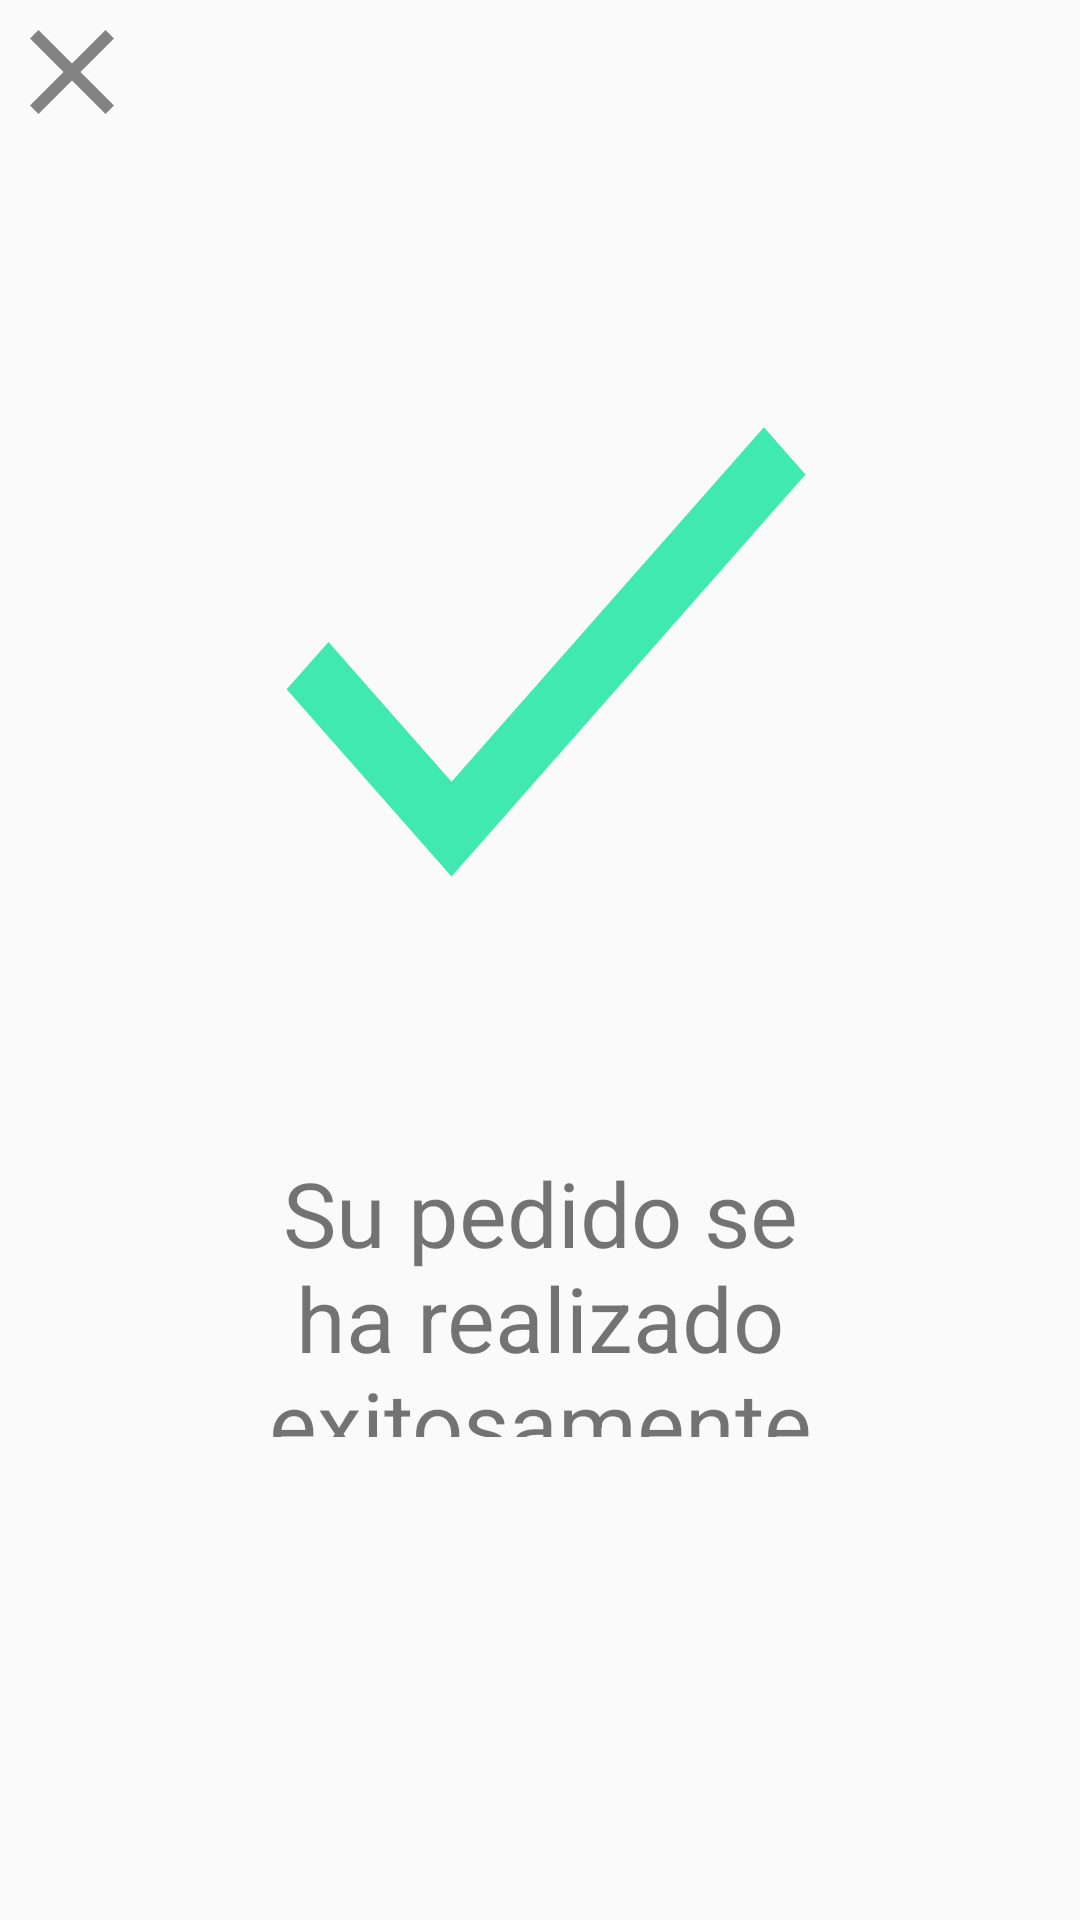

Where to tap for icons on this 1080w x 1920h app screen, as (x=x, y=y):
Button close: (x=72, y=72)
